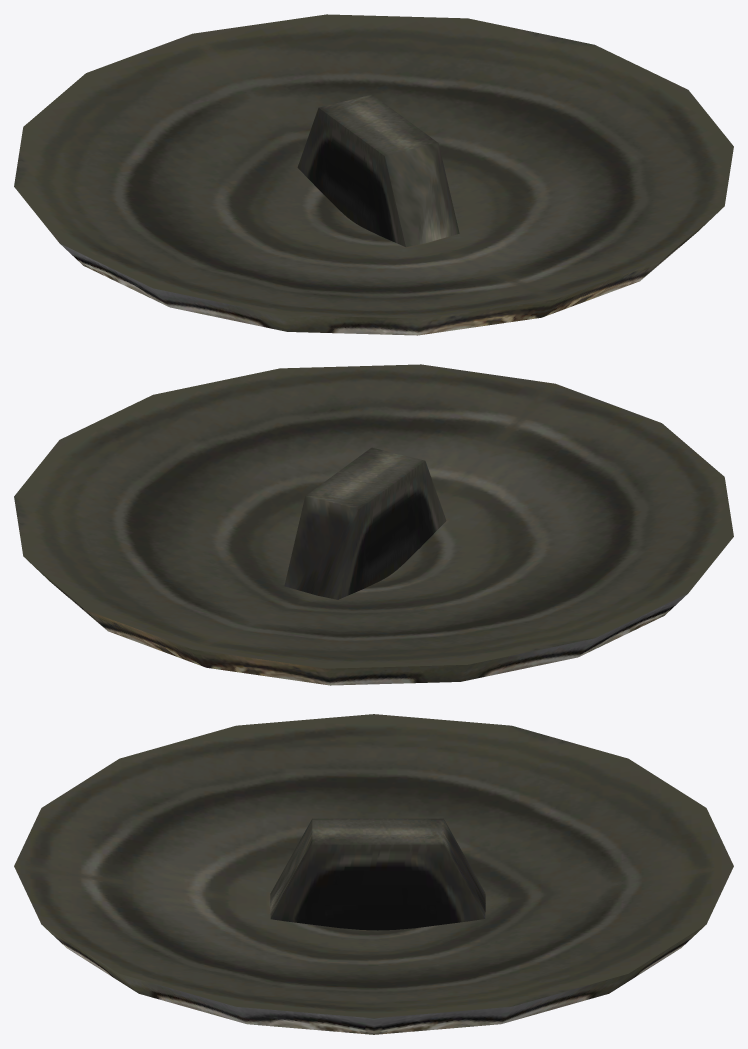
3 views of the same model, one above another, from view 1: azimuth 30°, elevation 25°; view 2: azimuth 150°, elevation 25°; view 3: azimuth 270°, elevation 25° (orthographic).
Visible parts, largest first — view 1: i100001; view 2: i100001; view 3: i100001.
Part boxes in pixels (x1,y1,x2,y2): i100001: (14,14,733,335); i100001: (14,364,733,685); i100001: (14,714,733,1034).
Bounding box in the file's own units: 35.96 × 6.13 × 35.96.
Materials: 1 (1 with a texture image).
